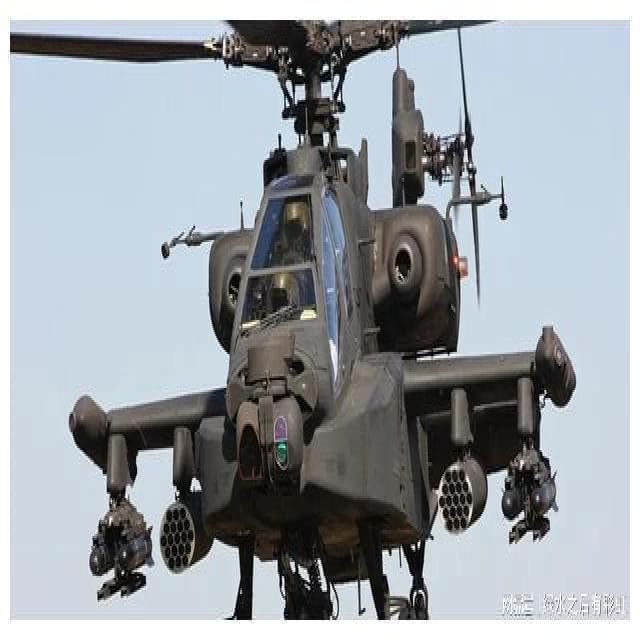MIL_HELO: (4, 36, 581, 630)
